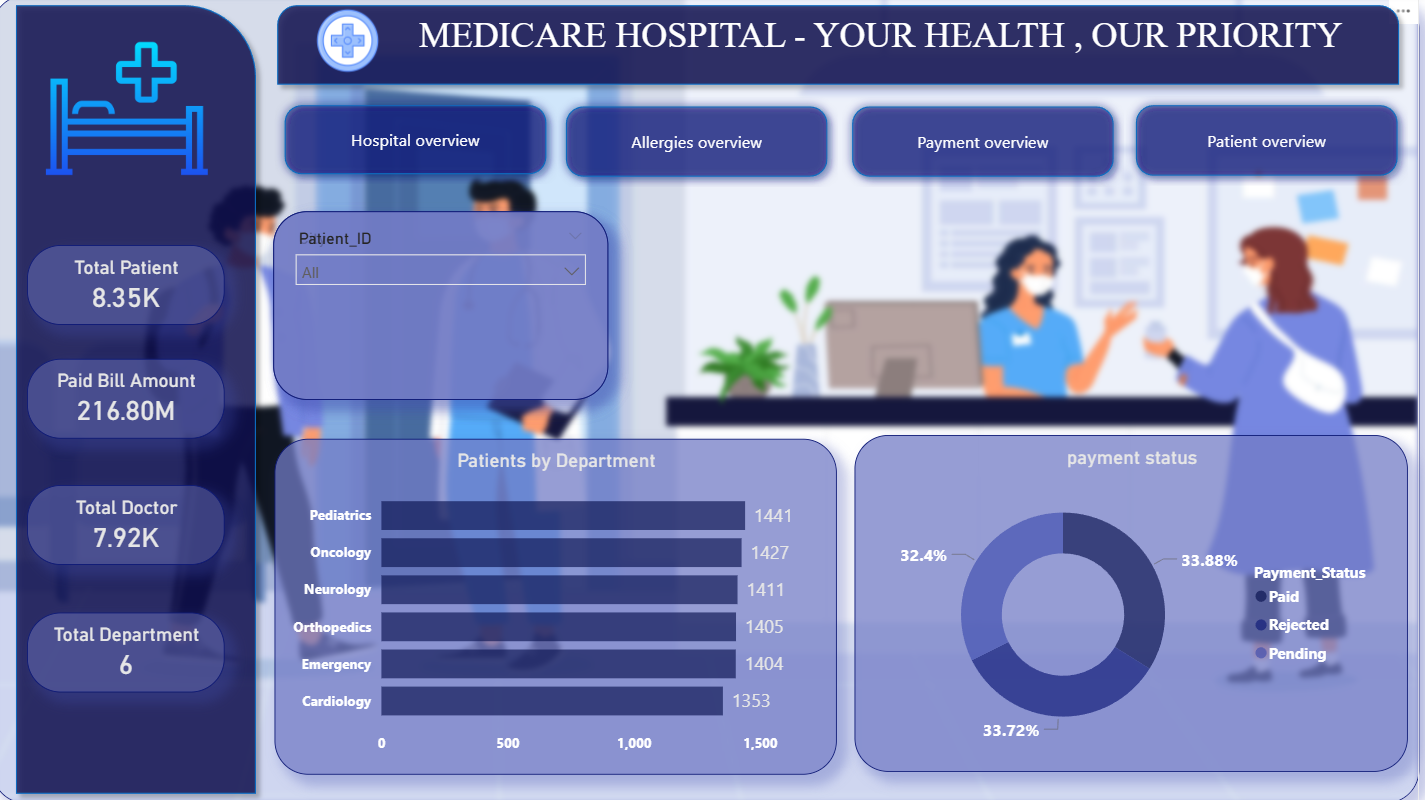

What the dashboard file says about the page in this screenshot:
{"tool":"powerbi","page":{"name":"Page 1","canvas":[1280,720],"ordinal":0},"visuals":[{"type":"image","box":[0,0,1271,720],"z":0},{"type":"shape","box":[244.7,0,1017.3,89],"z":1000},{"type":"shape","box":[12.3,0,231.9,720.4],"z":3000},{"type":"image","box":[12.3,12.3,214.7,174.2],"z":4000},{"type":"card","title":"Total Patient","fields":{"Values":["Count(Hospital Data.Patient_ID)"]},"box":[31.6,222.3,175.6,71.4],"z":5000},{"type":"card","title":"Paid Bill Amount","fields":{"Values":["Sum(Hospital Data.Bill_Amount)"]},"box":[31.6,323.8,175.6,71.4],"z":6000},{"type":"card","title":"Total Doctor","fields":{"Values":["Count(Hospital Data.Doctor)"]},"box":[31.6,436.4,175.6,71.4],"z":7000},{"type":"card","title":"Total Department","fields":{"Values":["Count(Hospital Data.Department)"]},"box":[31.6,550.3,175.6,71.4],"z":8000},{"type":"barChart","title":"Patients by Department","fields":{"Y":["CountNonNull(Hospital Data.Patient_ID)"],"Category":["Hospital Data.Department"]},"box":[251.1,395.2,500.9,299.1],"z":9000},{"type":"donutChart","title":"payment status","fields":{"Y":["CountNonNull(Hospital Data.Patient_ID)"],"Category":["Hospital Data.Payment_Status"]},"box":[768.6,392.2,493,300.3],"z":10000},{"type":"slicer","fields":{"Values":["Hospital Data.City"]},"box":[251,192.7,298,168.1],"z":15000},{"type":"slicer","fields":{"Values":["Hospital Data.Patient_ID"]},"box":[251,193.1,298,168.1],"z":16000},{"type":"textbox","box":[207,12.5,1012,87.5],"z":17000},{"type":"image","box":[267.5,12.3,99.4,56.4],"z":18000},{"type":"shape","box":[1010,89.2,251.1,81],"z":19000},{"type":"shape","box":[502,89.6,251,80.7],"z":25000},{"type":"shape","box":[757.4,89.6,251,80.7],"z":29000},{"type":"shape","box":[251.1,89.2,251.1,79.6],"z":35000}]}

Visuals, with their boxes in screenshot pixels (x1, y1, x2, y2), scaled from the page's 1280x720 canvas onto the 1425x800 screenshot:
image: box=[0, 0, 1415, 799]
shape: box=[272, 0, 1405, 99]
shape: box=[14, 0, 272, 799]
image: box=[14, 14, 253, 207]
"Total Patient" card: box=[35, 247, 231, 326]
"Paid Bill Amount" card: box=[35, 360, 231, 439]
"Total Doctor" card: box=[35, 485, 231, 564]
"Total Department" card: box=[35, 611, 231, 691]
"Patients by Department" barChart: box=[280, 439, 837, 771]
"payment status" donutChart: box=[856, 436, 1405, 769]
slicer - Hospital Data.City: box=[279, 214, 611, 401]
slicer - Hospital Data.Patient_ID: box=[279, 215, 611, 401]
textbox: box=[230, 14, 1357, 111]
image: box=[298, 14, 408, 76]
shape: box=[1124, 99, 1404, 189]
shape: box=[559, 100, 838, 189]
shape: box=[843, 100, 1123, 189]
shape: box=[280, 99, 559, 188]
